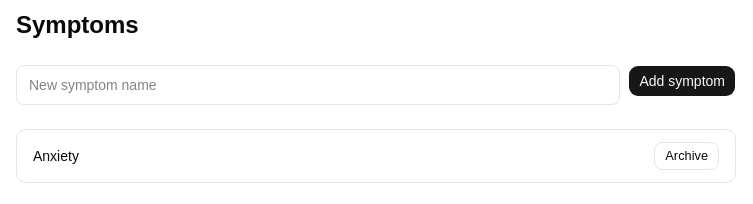
SymptomsRouteView › clicking a symptom name opens inline rename and submitting updates it
Click the button "Anxiety": (56, 156) [33, 146, 642, 166]
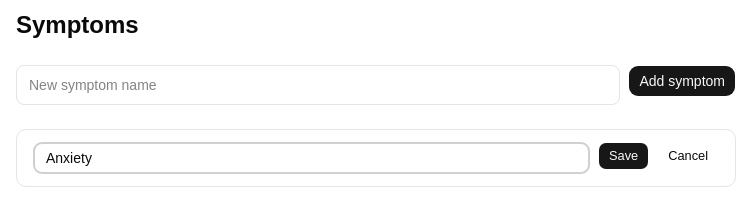
Replace the text in the field named "Rename symptom" with "Anxiety Disorder": (312, 158) [33, 142, 590, 174]
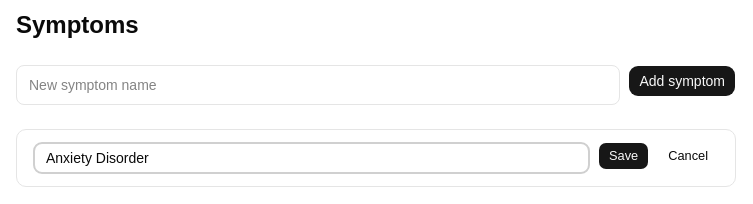
Click the button "Save": (624, 156) [598, 142, 649, 170]
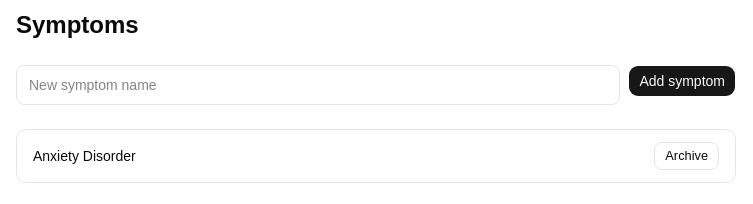
Now the button "Anxiety Disorder" is shown, box [33, 146, 642, 166]
